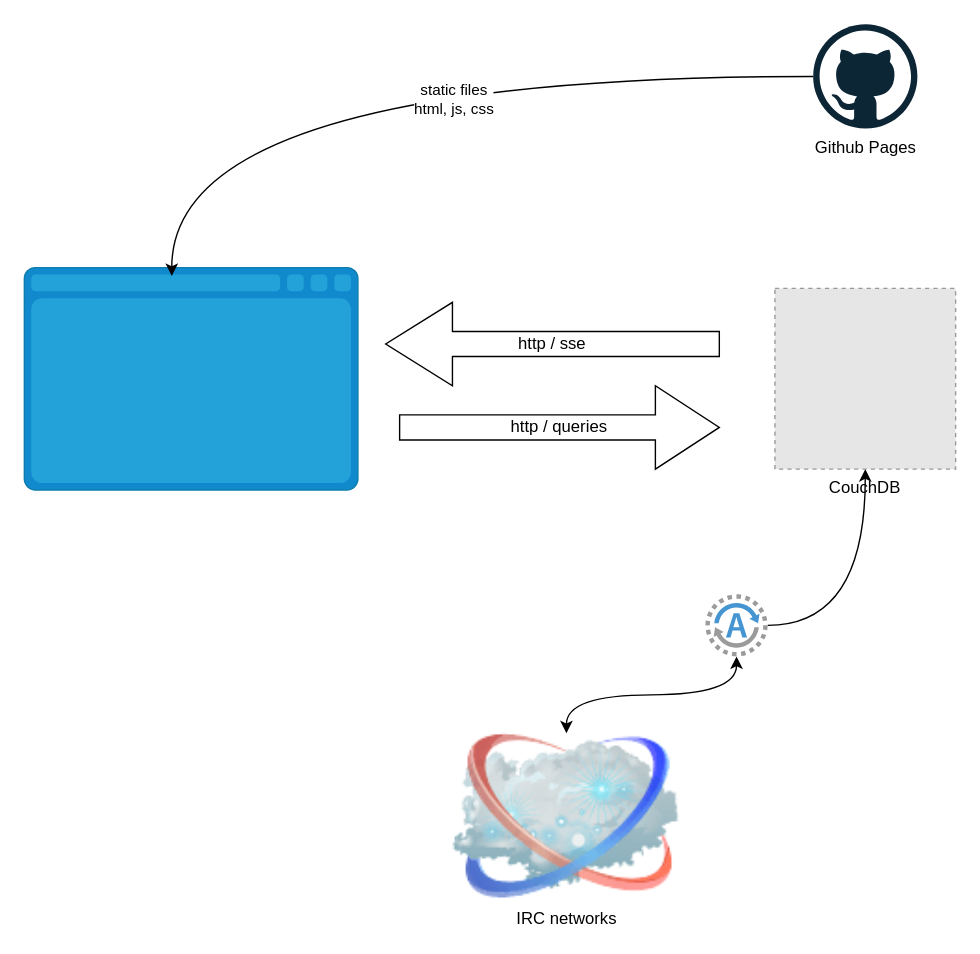
The diagram is 980 pixels wide and 954 high, and some of its shapes have lost their labels. Grey dashed boxes stand in for pictures. The shapes that lost their labels are listed below. From the top down, each one's box as (x1, y1, x2, y2) in pixels, then its label:
(23, 266, 358, 490): Browser [App: HTML, JavaScript, CSS]
(705, 594, 767, 656): erlbot
